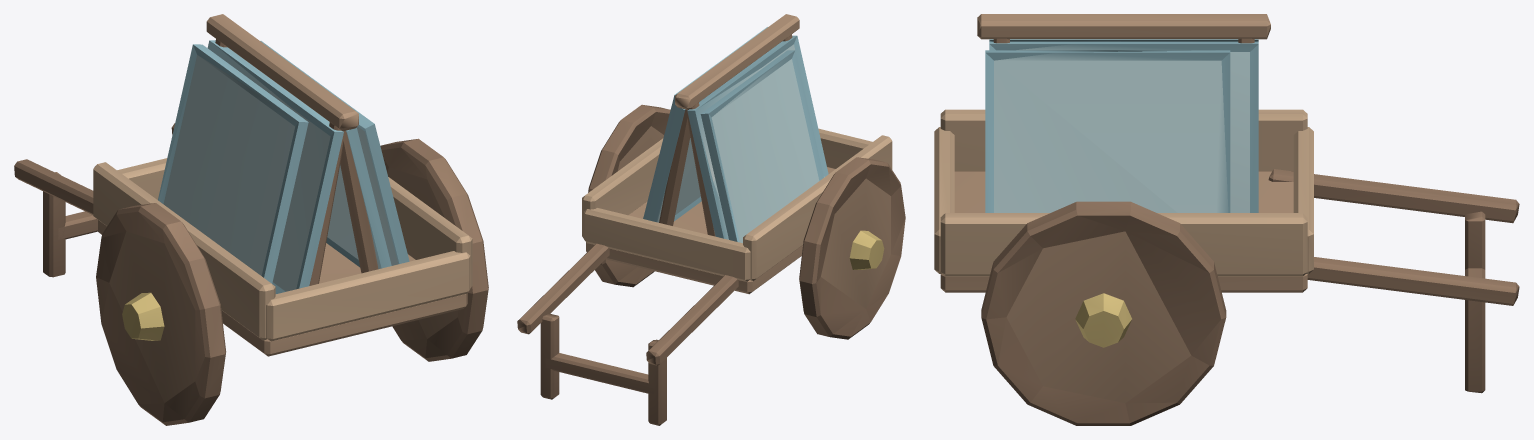
Rendered from glass-cart.low.glb.
The picture shows the model from 3 angles, left to right: view 1: azimuth 30°, elevation 25°; view 2: azimuth 150°, elevation 25°; view 3: azimuth 270°, elevation 25°; orthographic projection. The views are drawn at different scales.
Parts seen in each view (by area): view 1: glass-cart; view 2: glass-cart; view 3: glass-cart.
Boxes of the visible parts, x1,y1,x2,y2 form: glass-cart: (14,14,488,425); glass-cart: (517,14,905,425); glass-cart: (934,14,1519,425).
Bounding box in the file's own units: 0.9799 × 0.915 × 1.43.
